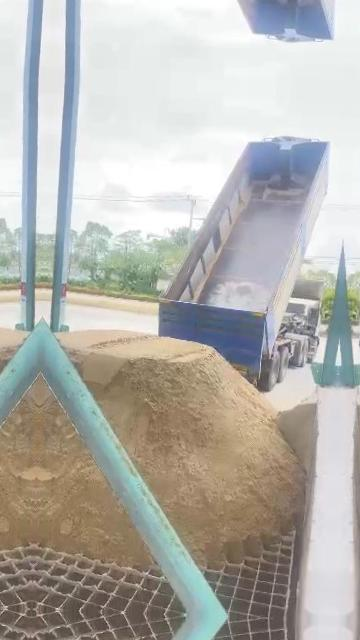sand: (59, 331, 303, 564), (34, 380, 149, 566), (276, 392, 318, 474)
